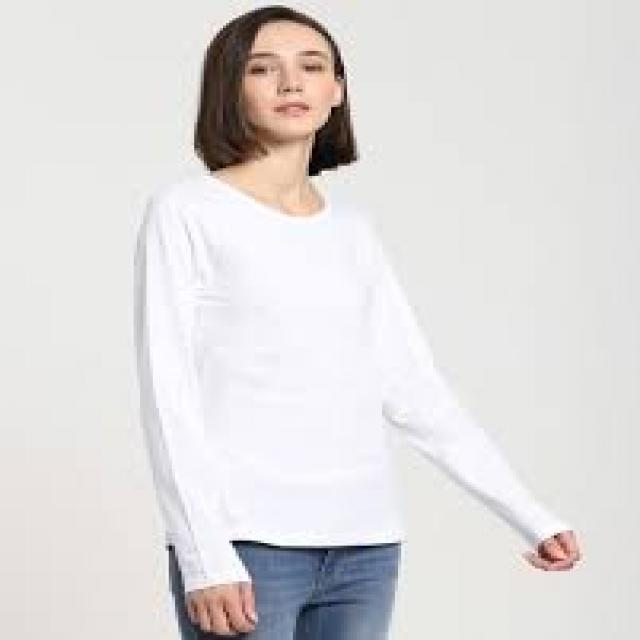plain: (108, 152, 429, 563)
